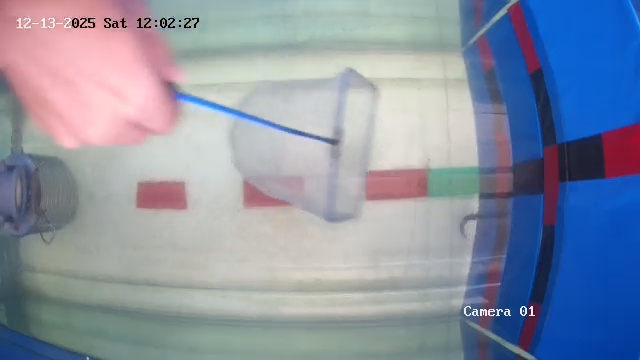fish: (457, 207, 493, 247)
